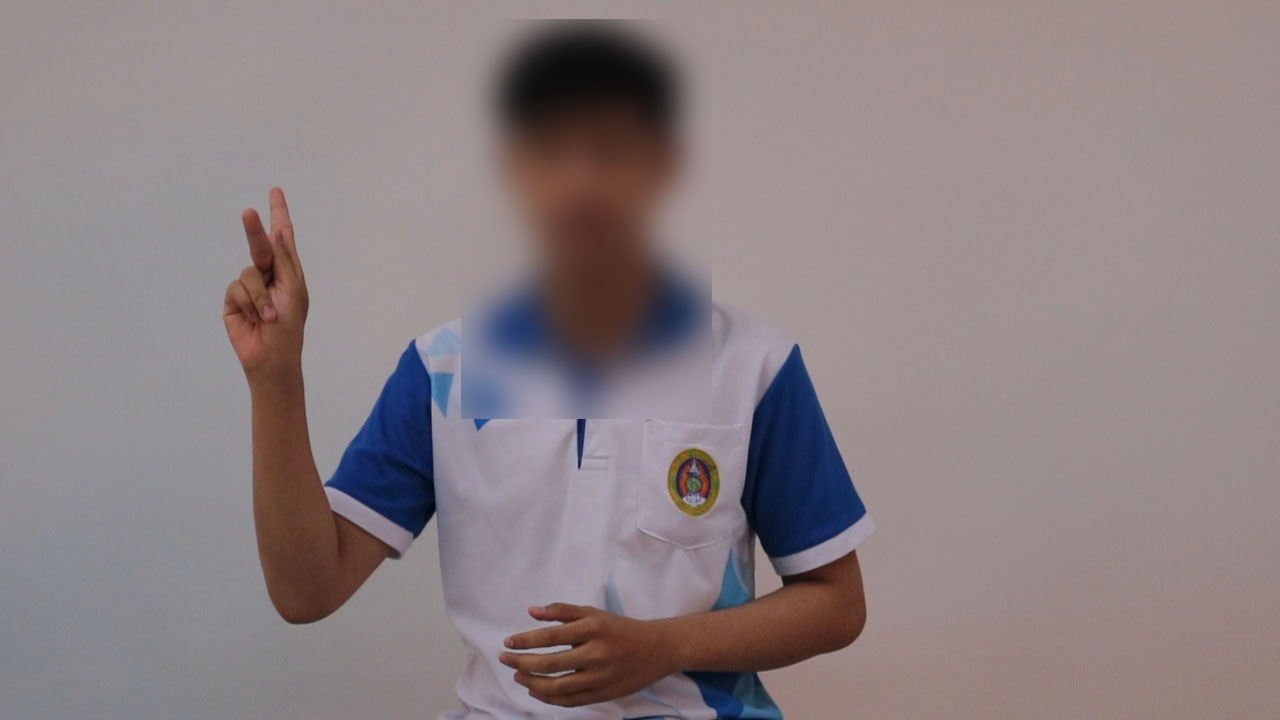ko: (164, 182, 382, 399)
